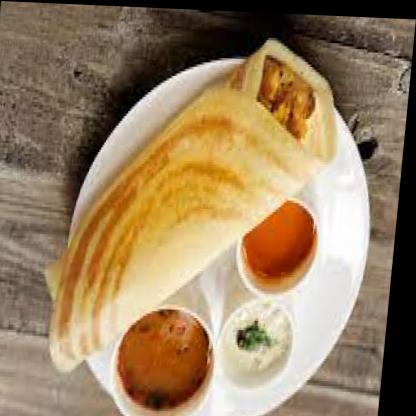dosa: (42, 29, 346, 379)
